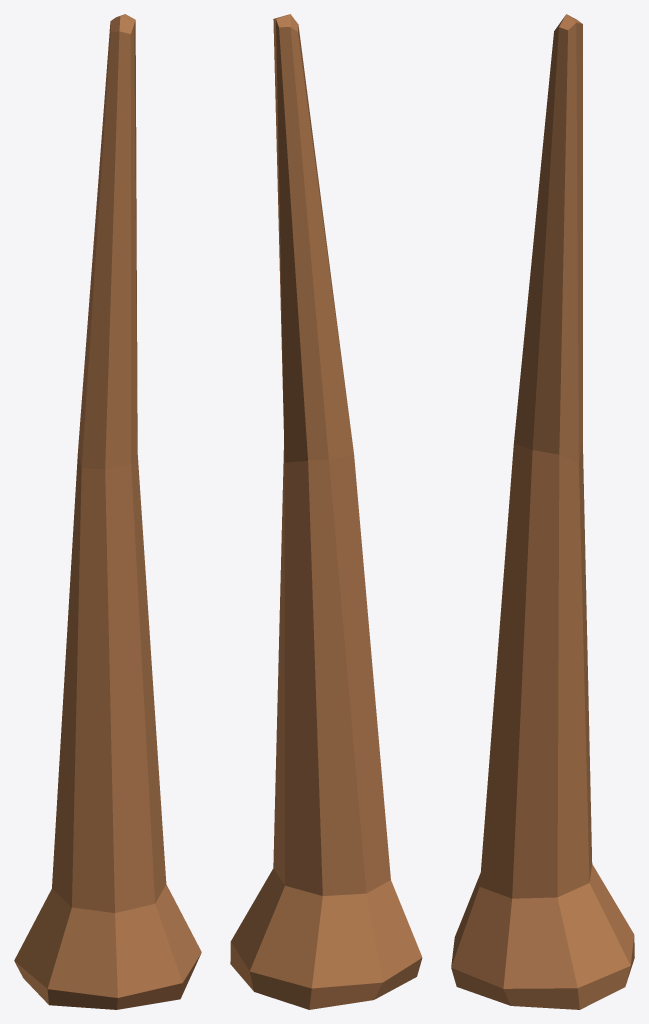
Rendered from Tree13.fbx.
3 views of the same model, side by side, from view 1: azimuth 30°, elevation 25°; view 2: azimuth 150°, elevation 25°; view 3: azimuth 270°, elevation 25° (orthographic). The views are drawn at different scales.
Visible parts, largest first — view 1: Tree13; view 2: Tree13; view 3: Tree13.
Part boxes in pixels (<box>): Tree13: <box>14,14,201,1009</box>; Tree13: <box>230,14,422,1009</box>; Tree13: <box>451,14,634,1009</box>.
Bounding box in the file's own units: 61.1 × 358 × 61.14.
